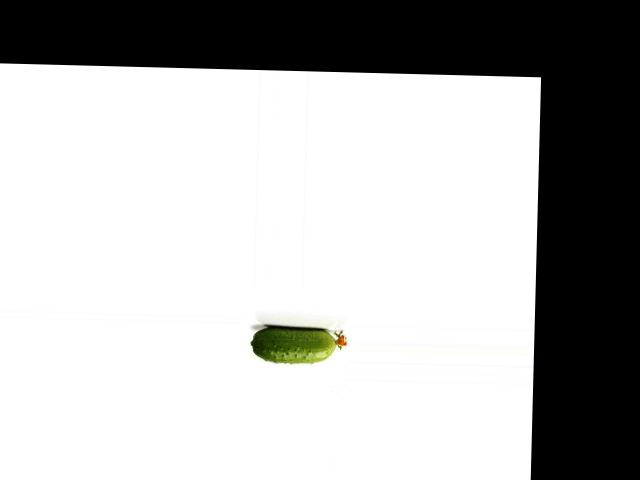cucumber: (249, 325, 346, 364)
